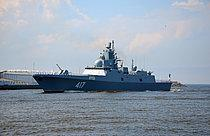MIL_Ship: (32, 38, 173, 92)
